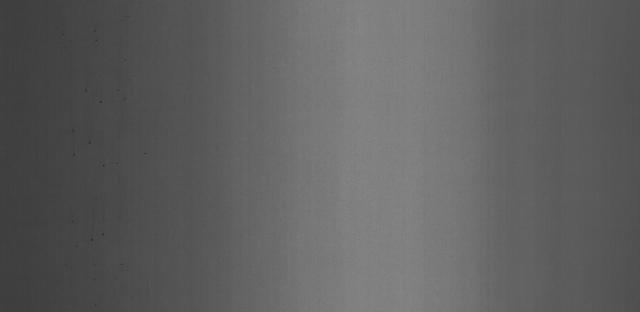inclusion: (81, 87, 127, 108), (69, 128, 90, 166), (84, 228, 110, 244), (114, 258, 130, 274)
